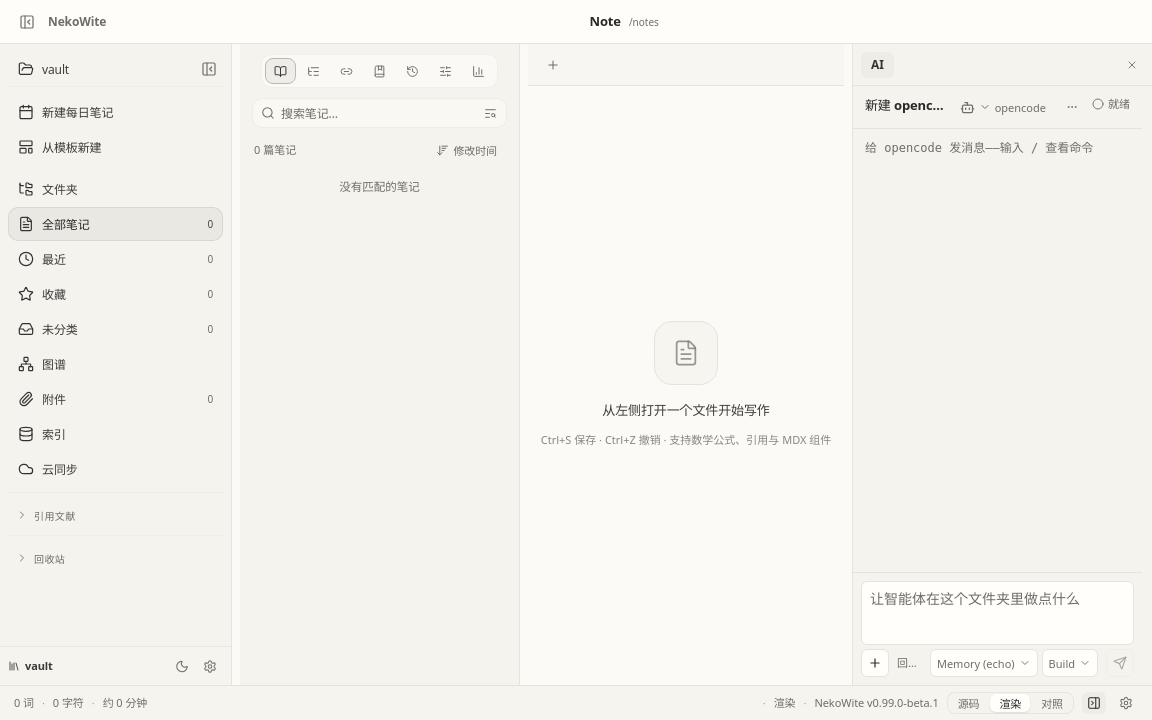
it: the transcript’s own find bar, reached from the window › searches the reader’s own turn as well as the engine’s
This screenshot has width=1152, height=720.
Type "Where is the plan?" into the text box with class "agent-composer-field" at (998, 613), box [861,581,1134,645]
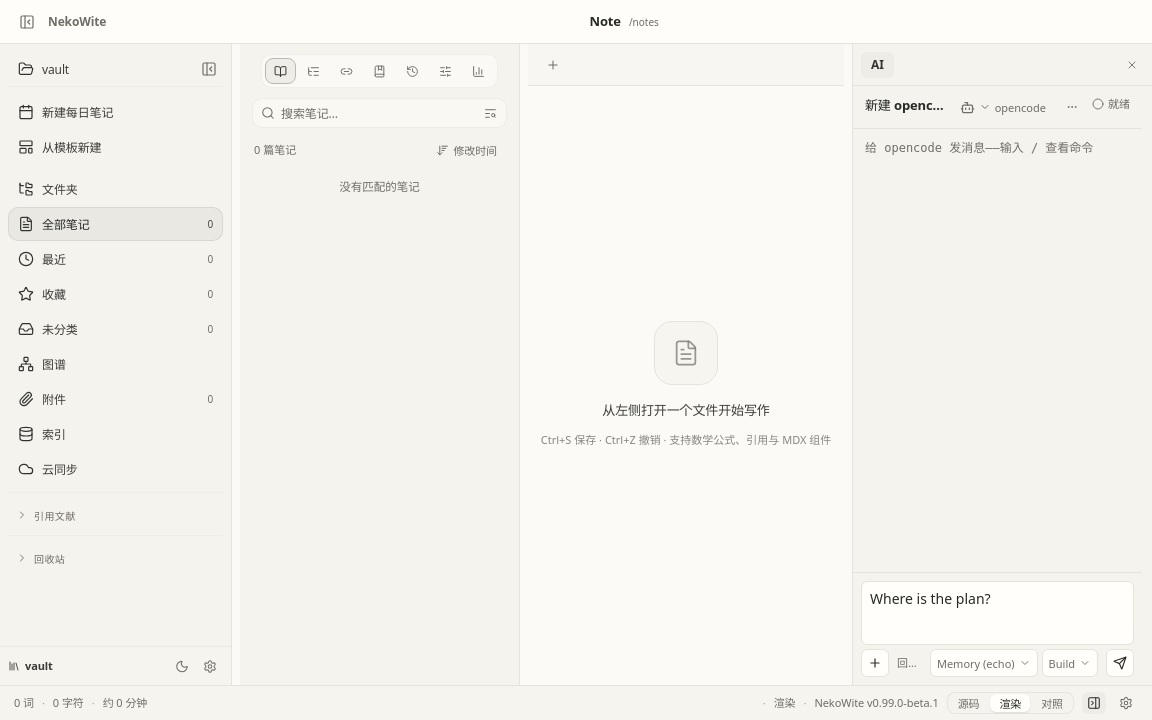
Click the button named "发送" at (1120, 663), box [1106,649,1134,677]
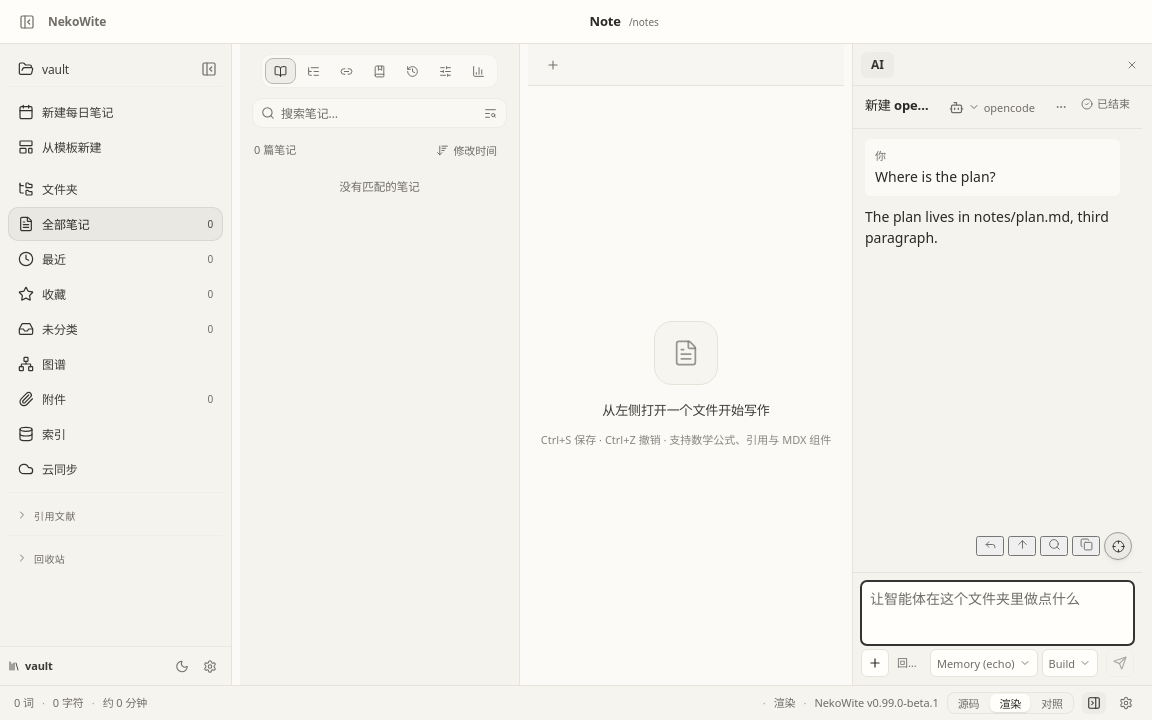
Click the button named "在这段对话中查找" at (1054, 546), box [1040,536,1068,556]
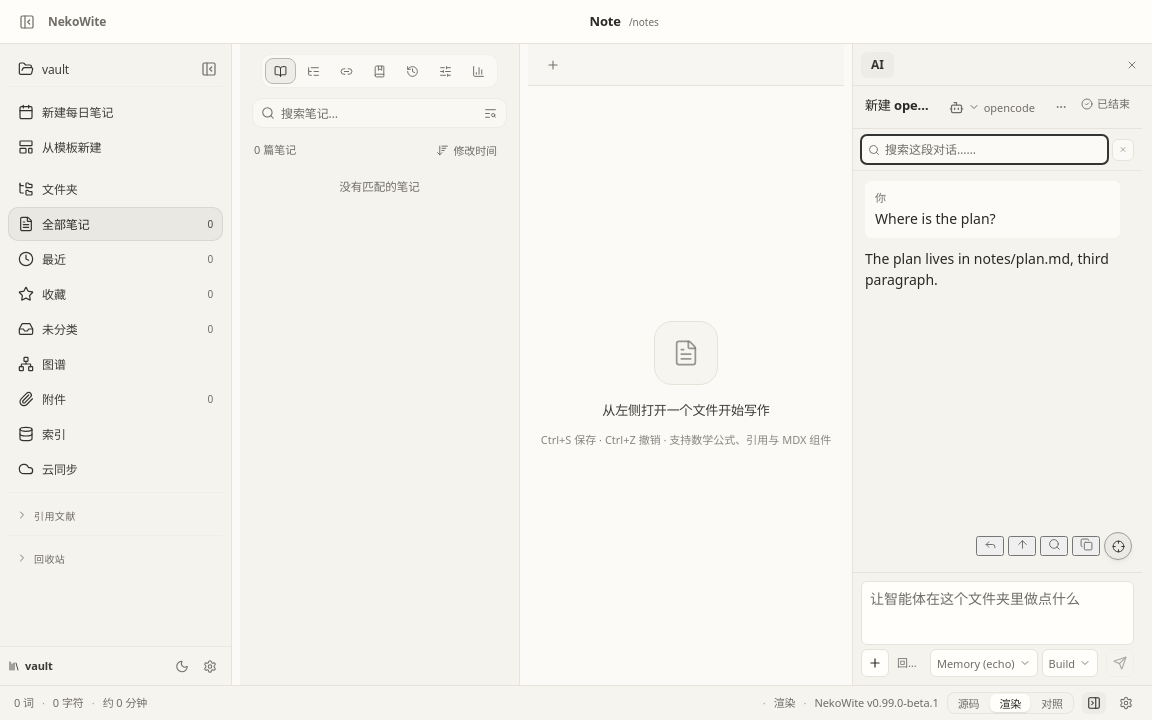
Type "Where is the plan?" into the field with placeholder "搜索这段对话……" at (993, 150), box [885,136,1101,163]
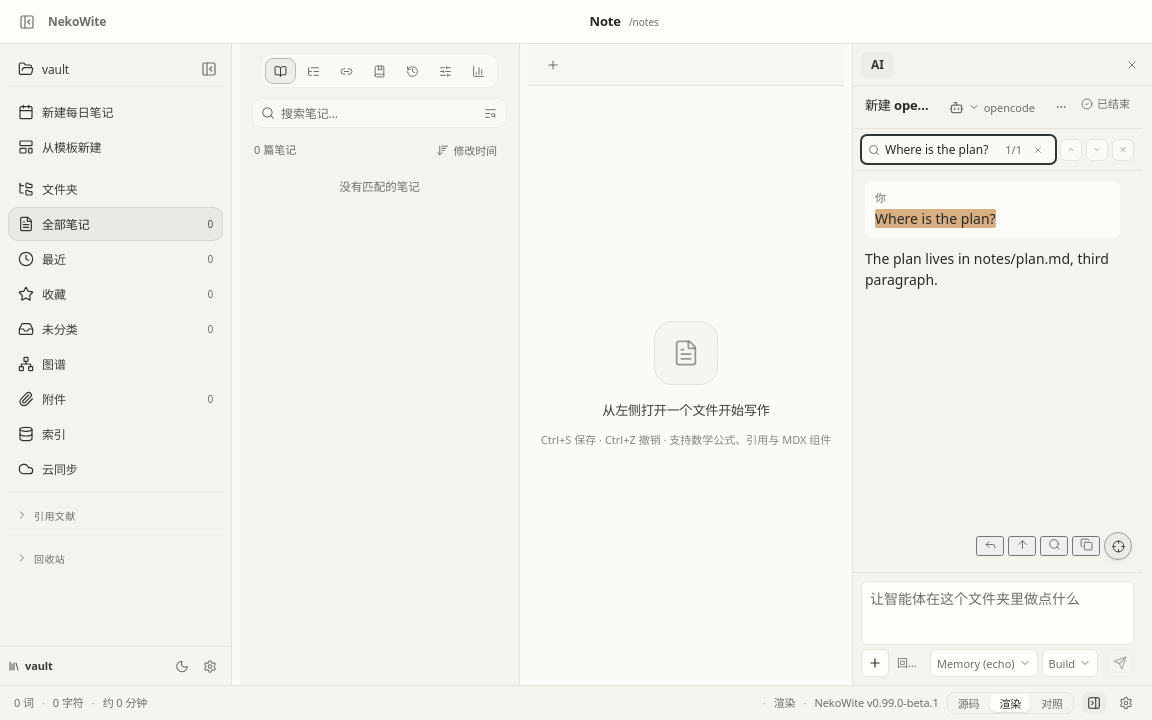
Expected: the text "1/1" is shown, [1005,140,1022,159]
